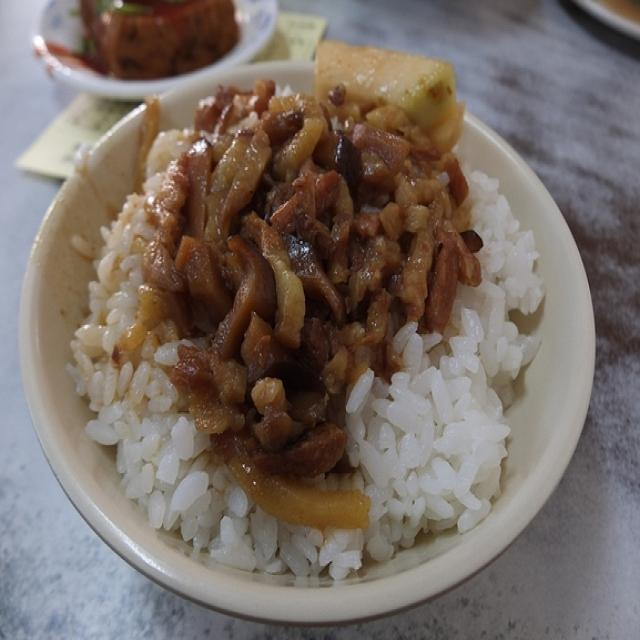猪肉菜式: (76, 50, 544, 584)
